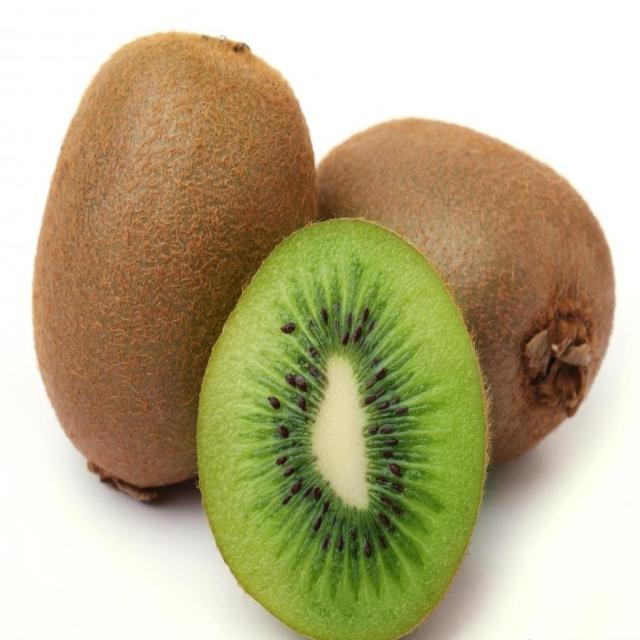Chilli Pepper: (38, 32, 311, 497), (195, 216, 492, 640), (289, 113, 615, 481)
